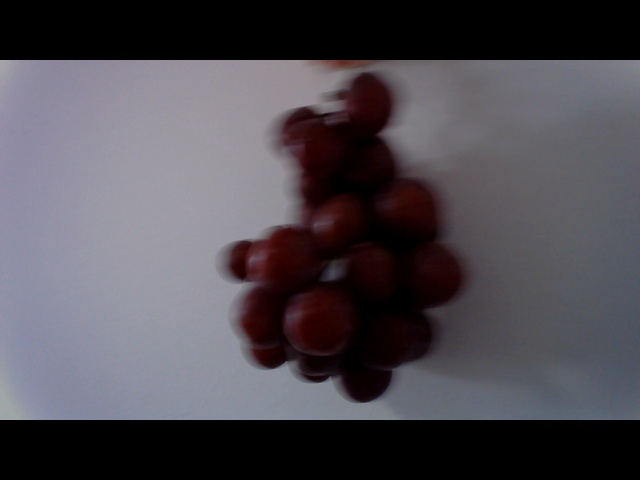grape: (201, 88, 468, 404)
